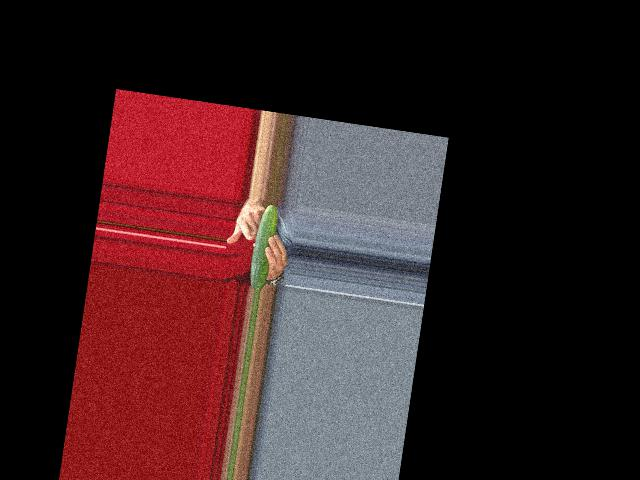cucumber: (247, 203, 280, 291)
